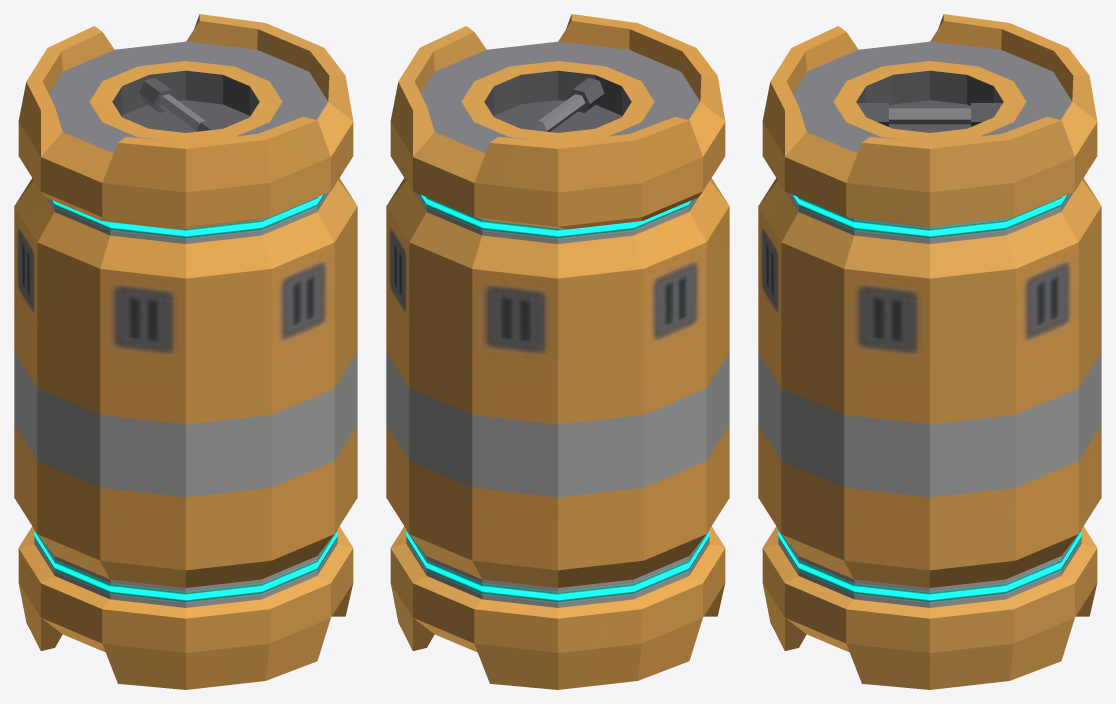
The model's file is entity127698.glb.
3 renders of one model, left to right at view 1: azimuth 30°, elevation 25°; view 2: azimuth 150°, elevation 25°; view 3: azimuth 270°, elevation 25°, orthographic.
Visible parts, largest first — view 1: node_SM_Prop_Crate_08 (17), node_SM_Prop_Crate_08_Lid_01; view 2: node_SM_Prop_Crate_08 (17), node_SM_Prop_Crate_08_Lid_01; view 3: node_SM_Prop_Crate_08 (17), node_SM_Prop_Crate_08_Lid_01.
Part boxes in pixels (<box>): node_SM_Prop_Crate_08 (17): <box>14,178,357,689</box>; node_SM_Prop_Crate_08_Lid_01: <box>18,14,353,229</box>; node_SM_Prop_Crate_08 (17): <box>386,178,729,689</box>; node_SM_Prop_Crate_08_Lid_01: <box>390,14,725,229</box>; node_SM_Prop_Crate_08 (17): <box>758,178,1101,689</box>; node_SM_Prop_Crate_08_Lid_01: <box>762,14,1097,226</box>.
Size of the model in its own units: 1.15 by 2 by 1.15.
Materials: 1 (1 with a texture image).
